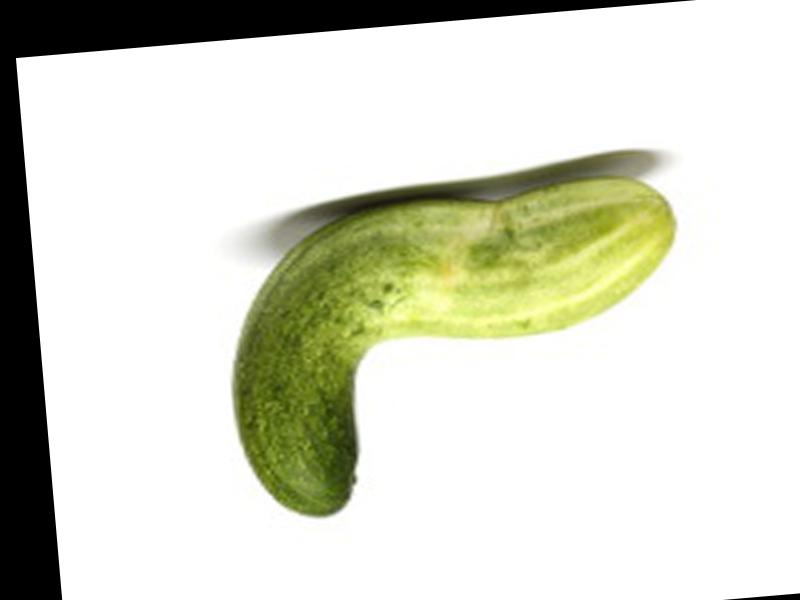Cucumber: (215, 168, 699, 523)
